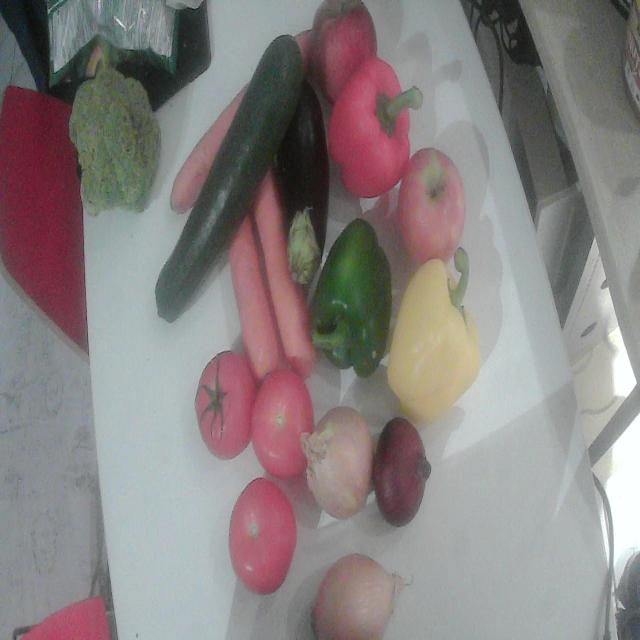Apple: (398, 148, 466, 267), (309, 0, 377, 100)
Bell Pepper: (386, 248, 482, 428), (308, 219, 392, 378), (328, 57, 422, 197)
Broccoli: (70, 69, 161, 212)
Carrot: (252, 173, 315, 376), (170, 84, 248, 213), (228, 210, 283, 379)
Courgette: (156, 36, 304, 322)
Eggplant: (274, 82, 330, 292)
Onion: (301, 407, 374, 518), (311, 554, 404, 639), (372, 418, 431, 526)
Tomato: (228, 477, 296, 594), (250, 370, 314, 478), (196, 351, 256, 460)
